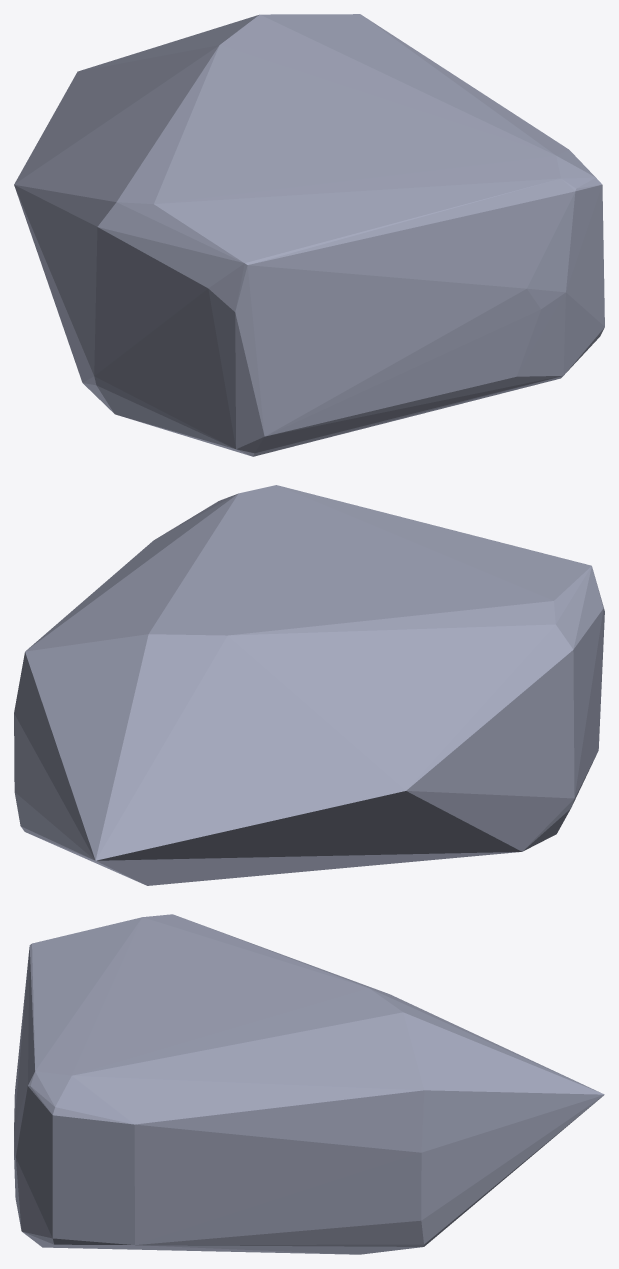
The model's file is laser_system_a01.glb.
The picture shows the model from 3 angles, top to bottom: view 1: azimuth 30°, elevation 25°; view 2: azimuth 150°, elevation 25°; view 3: azimuth 270°, elevation 25°; orthographic projection. The views are drawn at different scales.
Visible parts, largest first — view 1: geometry_0; view 2: geometry_0; view 3: geometry_0.
Part boxes in pixels (left/top/right/bottom): geometry_0: left=14, top=14, right=604, bottom=456; geometry_0: left=14, top=485, right=604, bottom=885; geometry_0: left=14, top=914, right=604, bottom=1254.
Size of the model in its own units: 0.3615 by 0.1958 by 0.4798.
